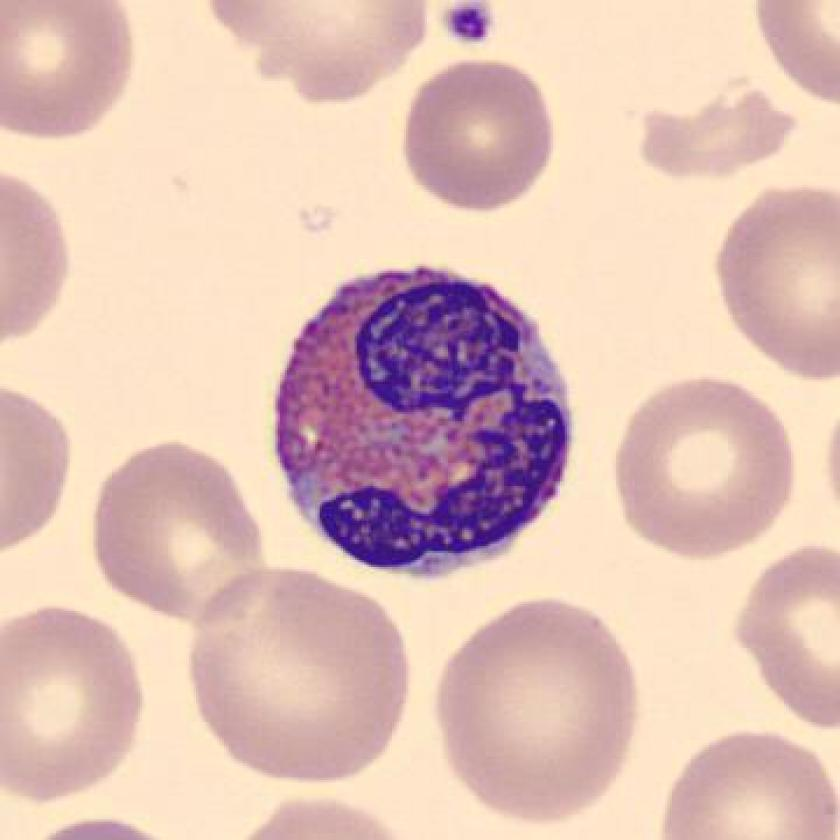eosinophil: (263, 253, 585, 589)
